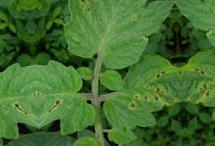Tomato leaf bacterial spot: (54, 0, 179, 71), (97, 54, 185, 136), (33, 49, 100, 134)
